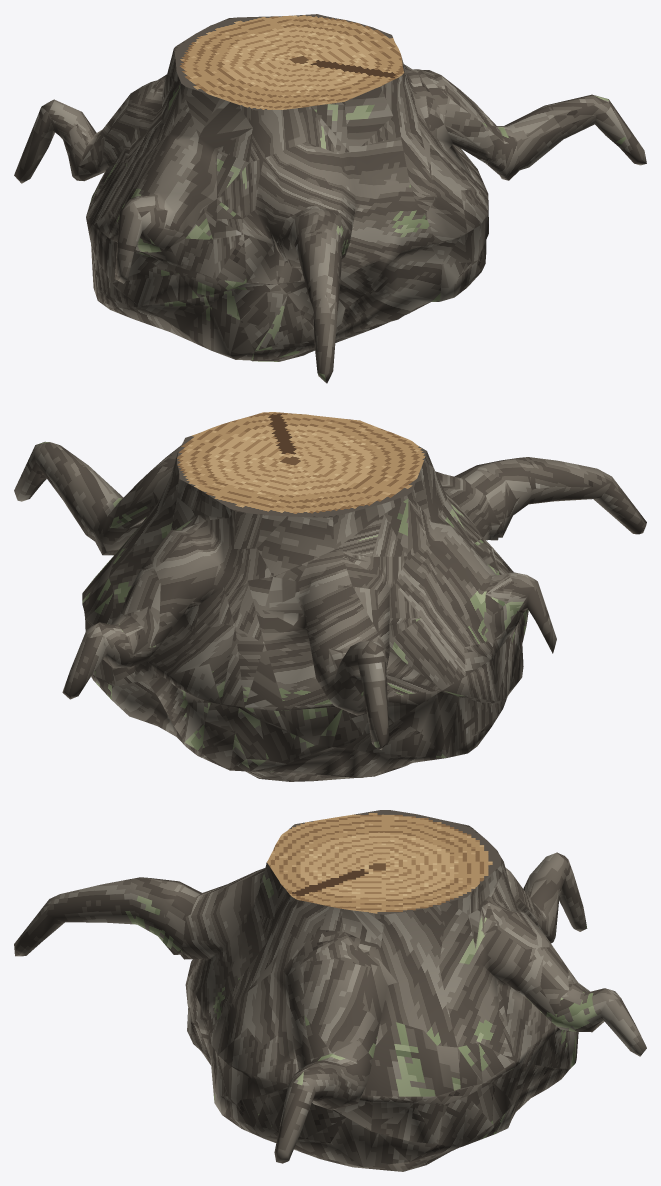
Rendered from environment_elm3_stump_v31.fbx.
3 renders of one model, top to bottom at view 1: azimuth 30°, elevation 25°; view 2: azimuth 150°, elevation 25°; view 3: azimuth 270°, elevation 25°, orthographic. The views are drawn at different scales.
Visible parts, largest first — view 1: environment_elm3_stump_v31; view 2: environment_elm3_stump_v31; view 3: environment_elm3_stump_v31.
Boxes of the visible parts, left/top/right/bottom form: environment_elm3_stump_v31: left=14, top=14, right=646, bottom=383; environment_elm3_stump_v31: left=14, top=412, right=646, bottom=781; environment_elm3_stump_v31: left=14, top=810, right=646, bottom=1171.
Size of the model in its own units: 532 by 253 by 551.
Materials: 2 (2 with a texture image).
